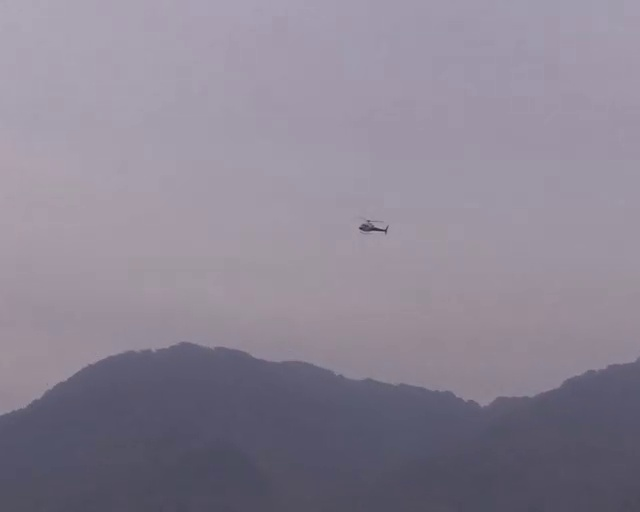HELICOPTER: (358, 217, 389, 234)
